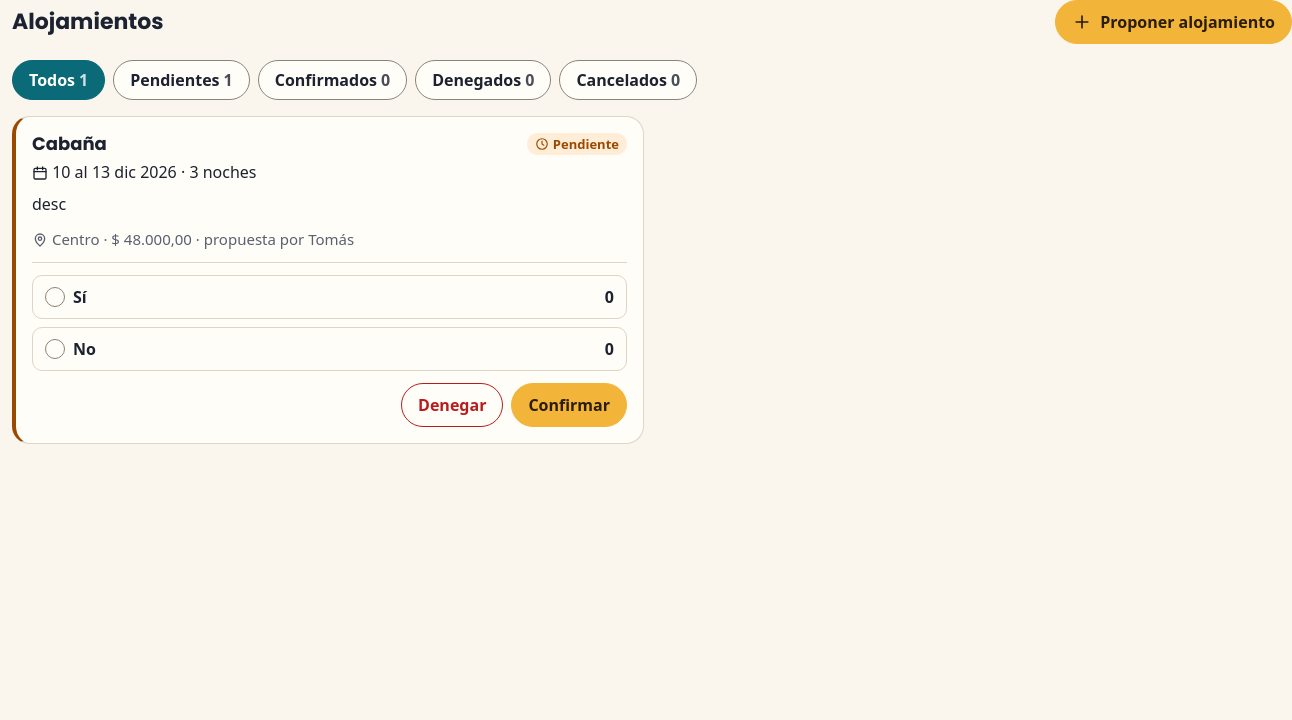
AlojamientosVista › si la propuesta ya cambió de estado al votar, avisa y muestra cómo quedó
What coordinates should you click on to do the following:
click the button "Sí 0"
I would click on:
 (55, 297)
Its box is left=32, top=275, right=627, bottom=319.
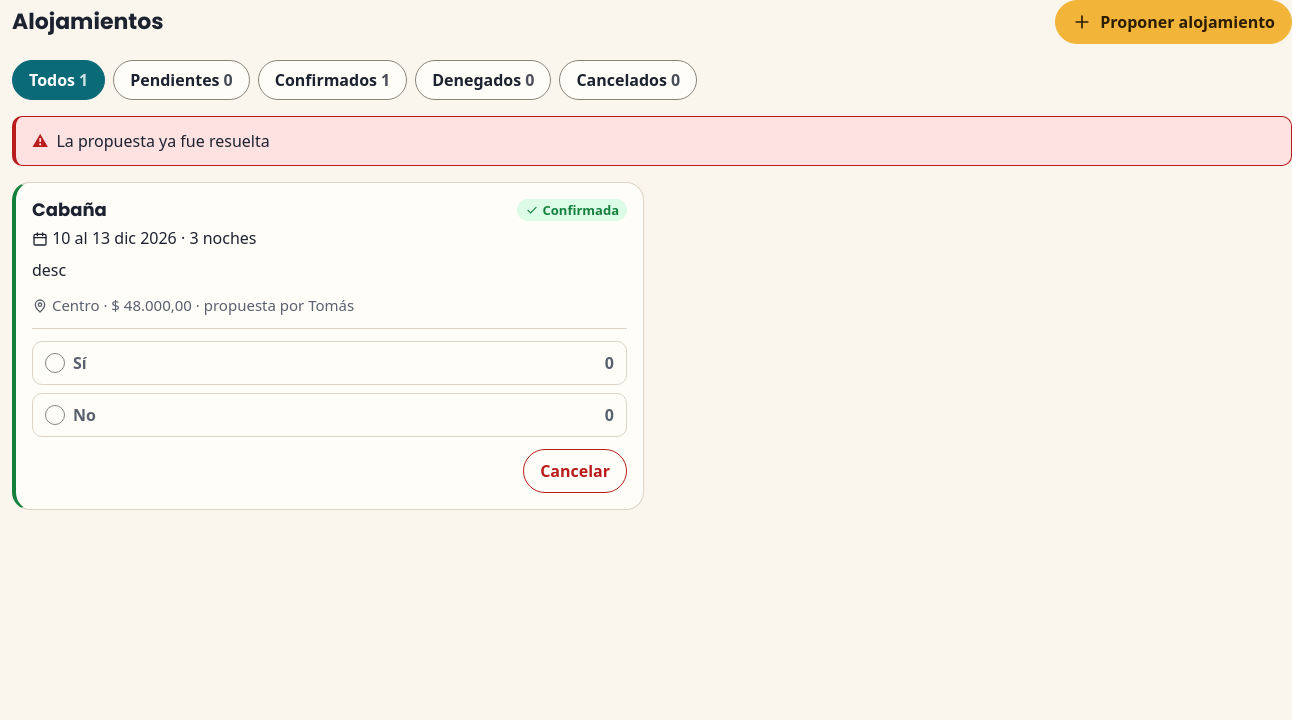
Result: the message "⚠ La propuesta ya fue resuelta" is shown at left=12, top=116, right=1291, bottom=166
Result: the text "Confirmada" is shown at left=516, top=199, right=627, bottom=221
